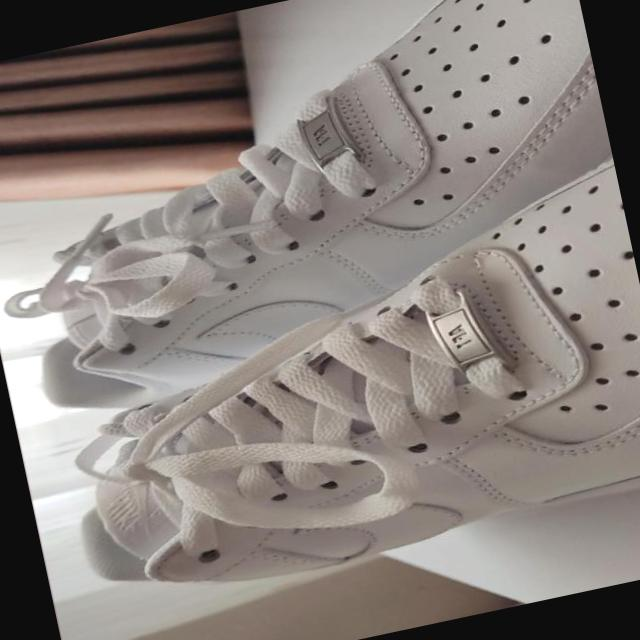nike_original_airforce: (15, 142, 640, 625), (0, 0, 640, 438)
